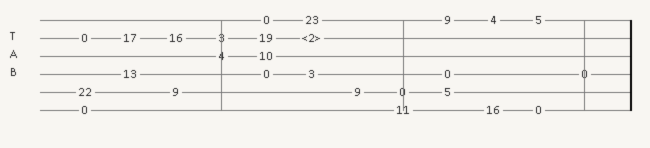0: (81, 32, 92, 44), (81, 104, 92, 116), (263, 14, 274, 26), (263, 68, 274, 80), (399, 86, 410, 98), (444, 68, 455, 80), (535, 104, 546, 116), (581, 68, 592, 80)
10: (259, 50, 277, 62)
11: (396, 104, 414, 116)
13: (123, 68, 141, 80)
16: (169, 32, 187, 44), (486, 104, 504, 116)
17: (123, 32, 141, 44)
19: (259, 32, 277, 44)
22: (78, 86, 96, 98)
23: (305, 14, 323, 26)
3: (218, 32, 229, 44), (308, 68, 319, 80)
4: (218, 50, 229, 62), (490, 14, 501, 26)
5: (444, 86, 455, 98), (535, 14, 546, 26)
9: (172, 86, 183, 98), (354, 86, 365, 98), (444, 14, 455, 26)
harmonic: (302, 32, 325, 44)
